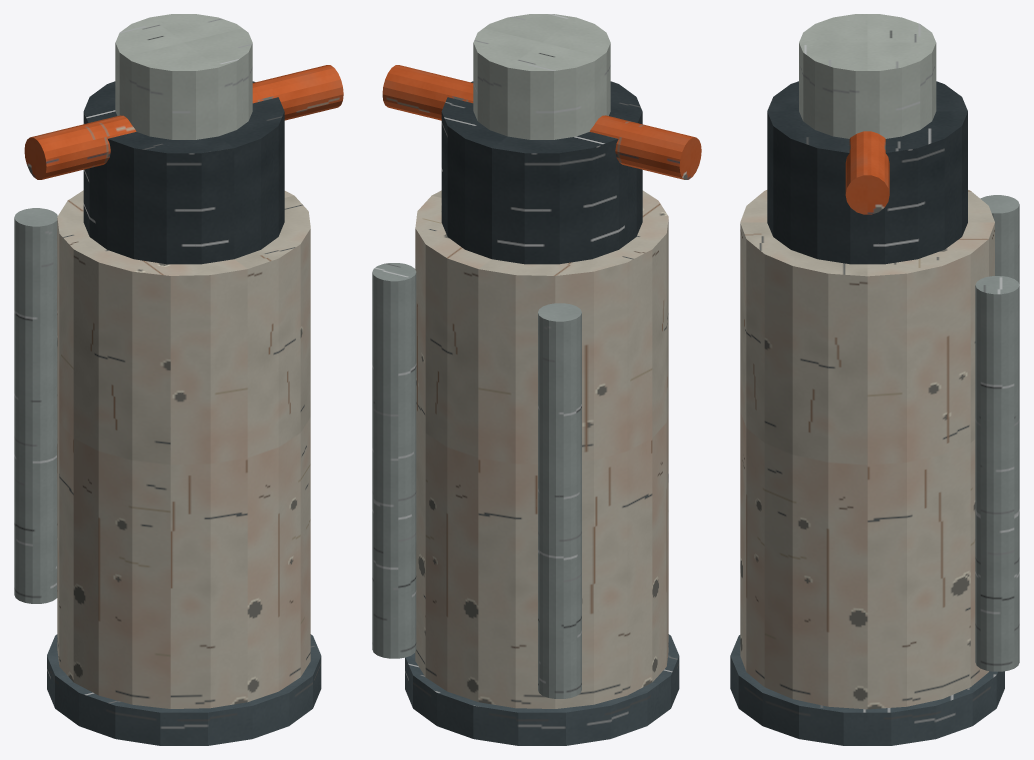
File: field_kit_2.glb
3 views of the same model, side by side, from view 1: azimuth 30°, elevation 25°; view 2: azimuth 150°, elevation 25°; view 3: azimuth 270°, elevation 25° (orthographic).
Visible parts, largest first — view 1: air_cartridge_body_warm_shell, air_regulator_graphite, cartridge_mount_-0.039_alloy, air_valve_satin_steel, air_cartridge_base_dark_alloy, air_valve_guard_orange; view 2: air_cartridge_body_warm_shell, air_regulator_graphite, cartridge_mount_0.039_alloy, cartridge_mount_-0.039_alloy, air_valve_satin_steel, air_cartridge_base_dark_alloy, air_valve_guard_orange; view 3: air_cartridge_body_warm_shell, air_regulator_graphite, cartridge_mount_0.039_alloy, air_valve_satin_steel, air_cartridge_base_dark_alloy, air_valve_guard_orange, cartridge_mount_-0.039_alloy.
Part boxes in pixels (left/top/right/bottom): air_cartridge_body_warm_shell: left=57, top=190, right=310, bottom=708; air_regulator_graphite: left=83, top=81, right=284, bottom=264; cartridge_mount_-0.039_alloy: left=14, top=208, right=57, bottom=603; air_valve_satin_steel: left=115, top=14, right=252, bottom=139; air_cartridge_base_dark_alloy: left=47, top=634, right=321, bottom=745; air_valve_guard_orange: left=24, top=65, right=343, bottom=179; air_cartridge_body_warm_shell: left=415, top=190, right=668, bottom=708; air_regulator_graphite: left=441, top=81, right=642, bottom=264; cartridge_mount_0.039_alloy: left=372, top=263, right=416, bottom=658; cartridge_mount_-0.039_alloy: left=538, top=303, right=581, bottom=698; air_valve_satin_steel: left=473, top=14, right=610, bottom=139; air_cartridge_base_dark_alloy: left=405, top=634, right=679, bottom=745; air_valve_guard_orange: left=382, top=65, right=701, bottom=179; air_cartridge_body_warm_shell: left=740, top=190, right=994, bottom=709; air_regulator_graphite: left=767, top=81, right=967, bottom=264; cartridge_mount_0.039_alloy: left=975, top=276, right=1019, bottom=671; air_valve_satin_steel: left=799, top=14, right=936, bottom=138; air_cartridge_base_dark_alloy: left=730, top=635, right=1004, bottom=745; air_valve_guard_orange: left=845, top=131, right=889, bottom=214; cartridge_mount_-0.039_alloy: left=980, top=195, right=1019, bottom=284.
Size of the model in its own units: 0.14 by 0.291 by 0.118.
Materials: 6 (6 with a texture image).
